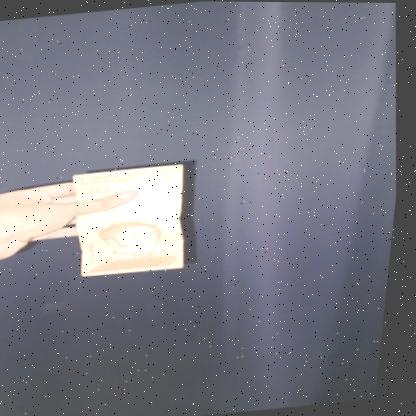twenty-front-vef: (67, 162, 197, 278)
